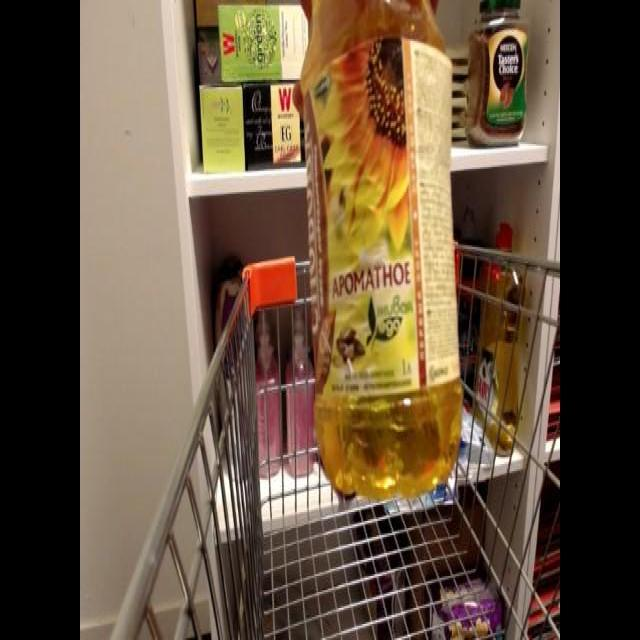Oil: (294, 1, 466, 507)
